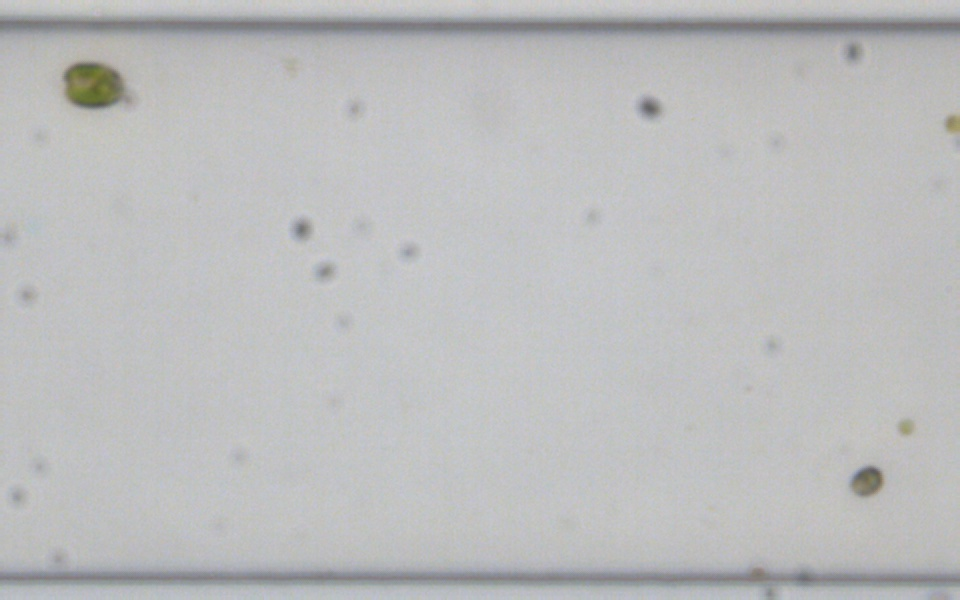Chlorella: (895, 416, 914, 435), (942, 112, 959, 131)
Platymonas: (59, 58, 124, 110), (848, 464, 885, 498)
